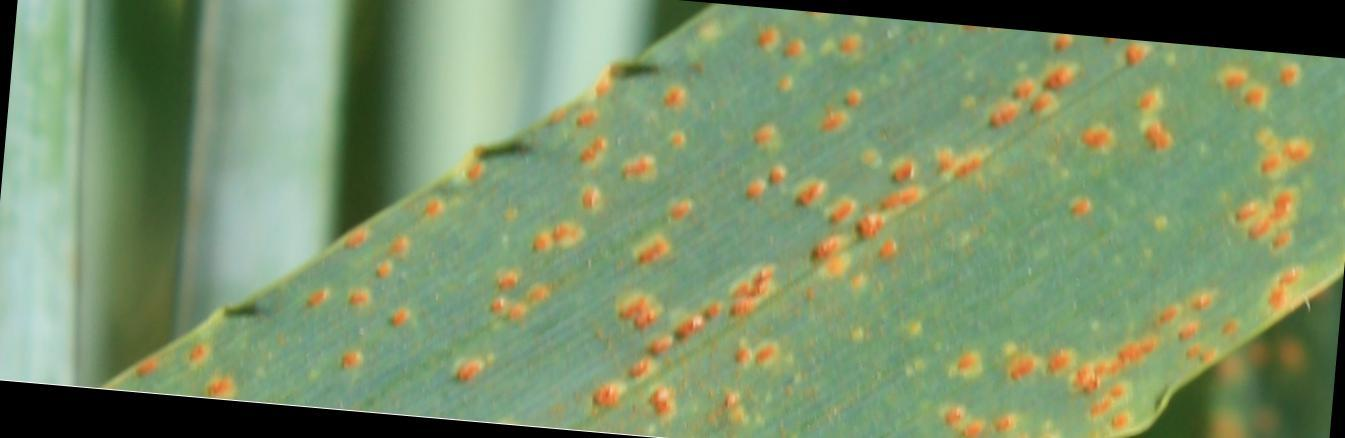Wheat: (478, 17, 1323, 284), (238, 191, 922, 431), (922, 275, 1259, 434)
